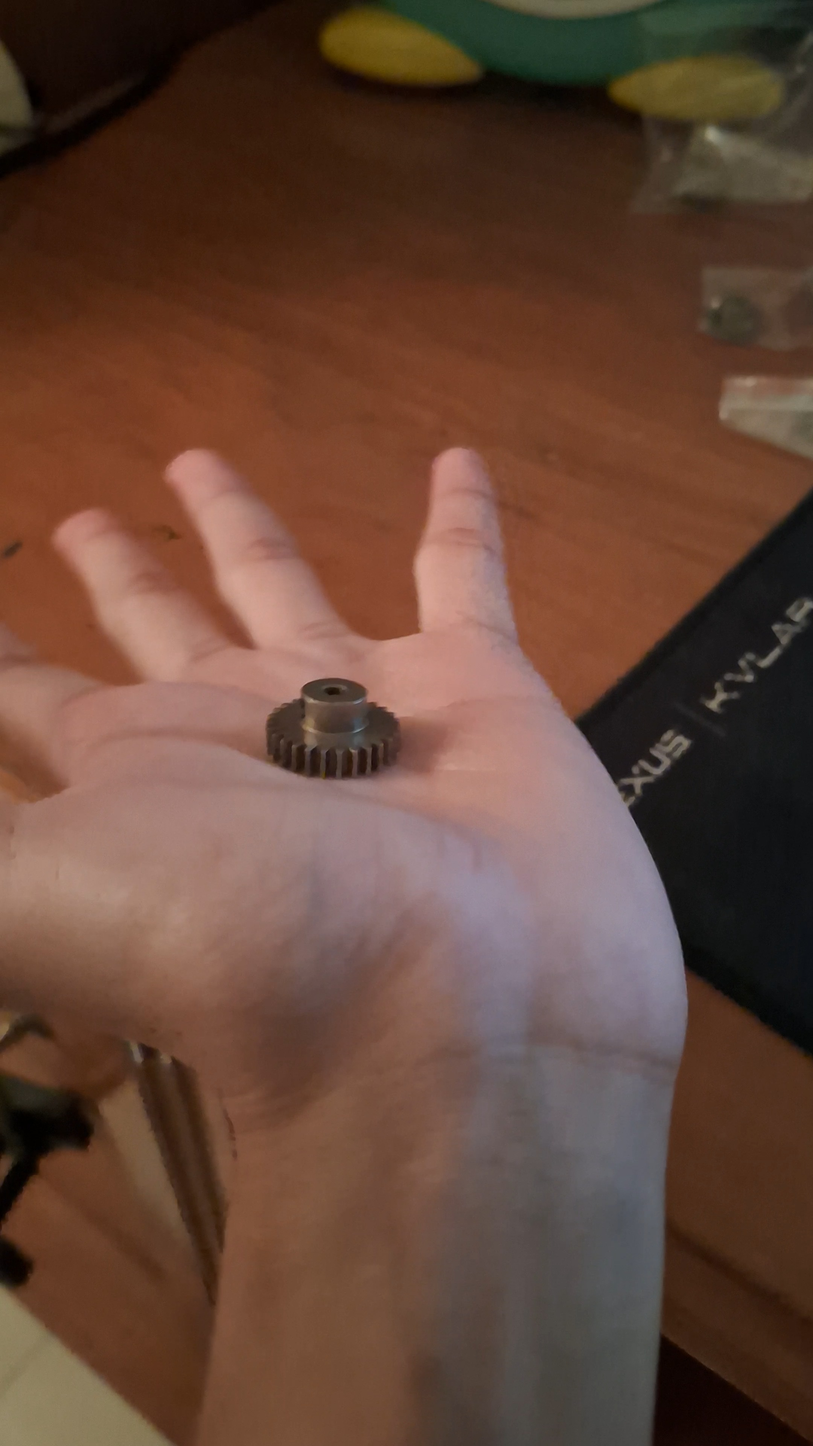spur gear: (266, 677, 399, 779)
